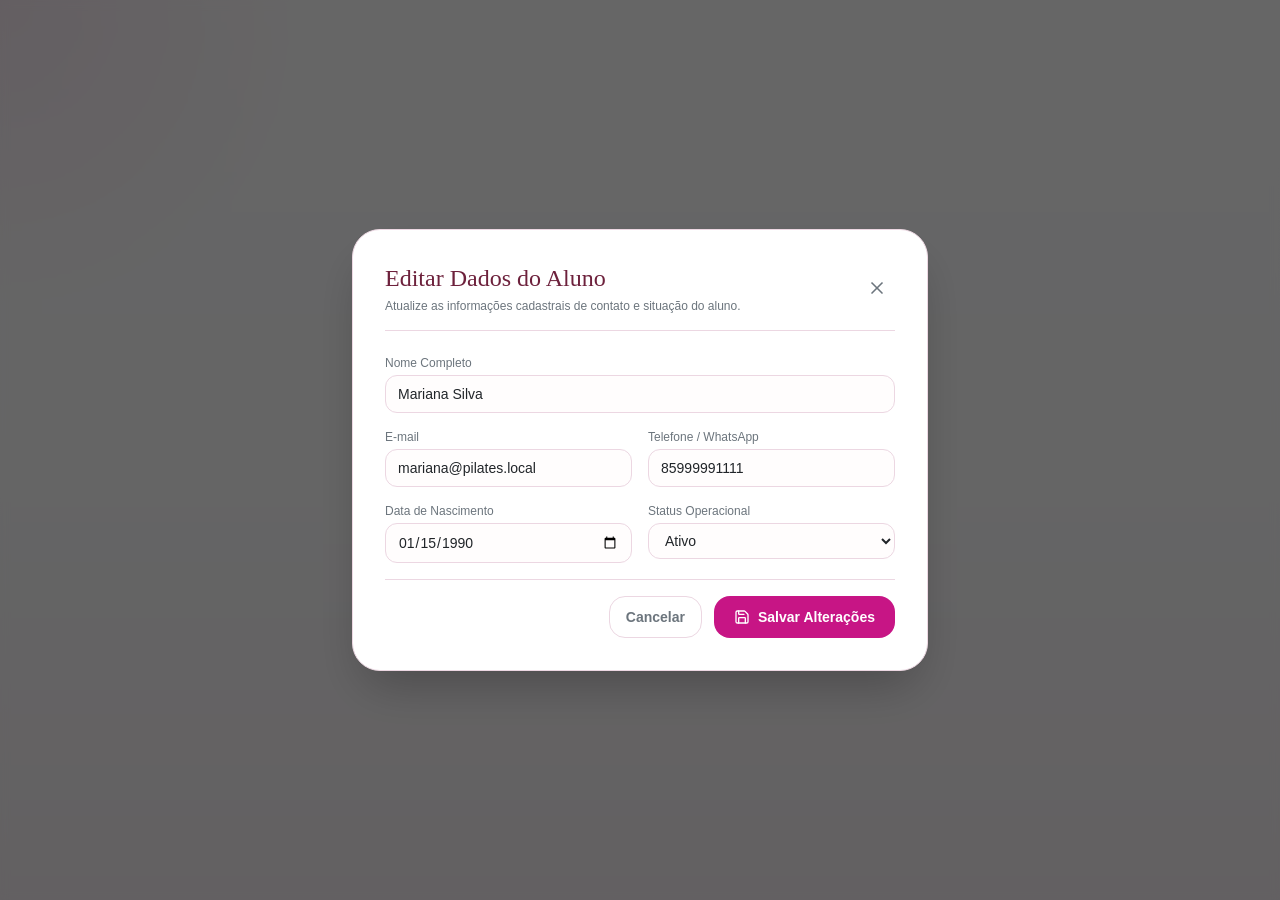
Test: EditStudentModal component › atualiza os dados cadastrais com sucesso
This screenshot has width=1280, height=900.
Replace the text in the field showing "Mariana Silva" with "Mariana Santos" at x=640, y=394, box [385, 375, 895, 413]
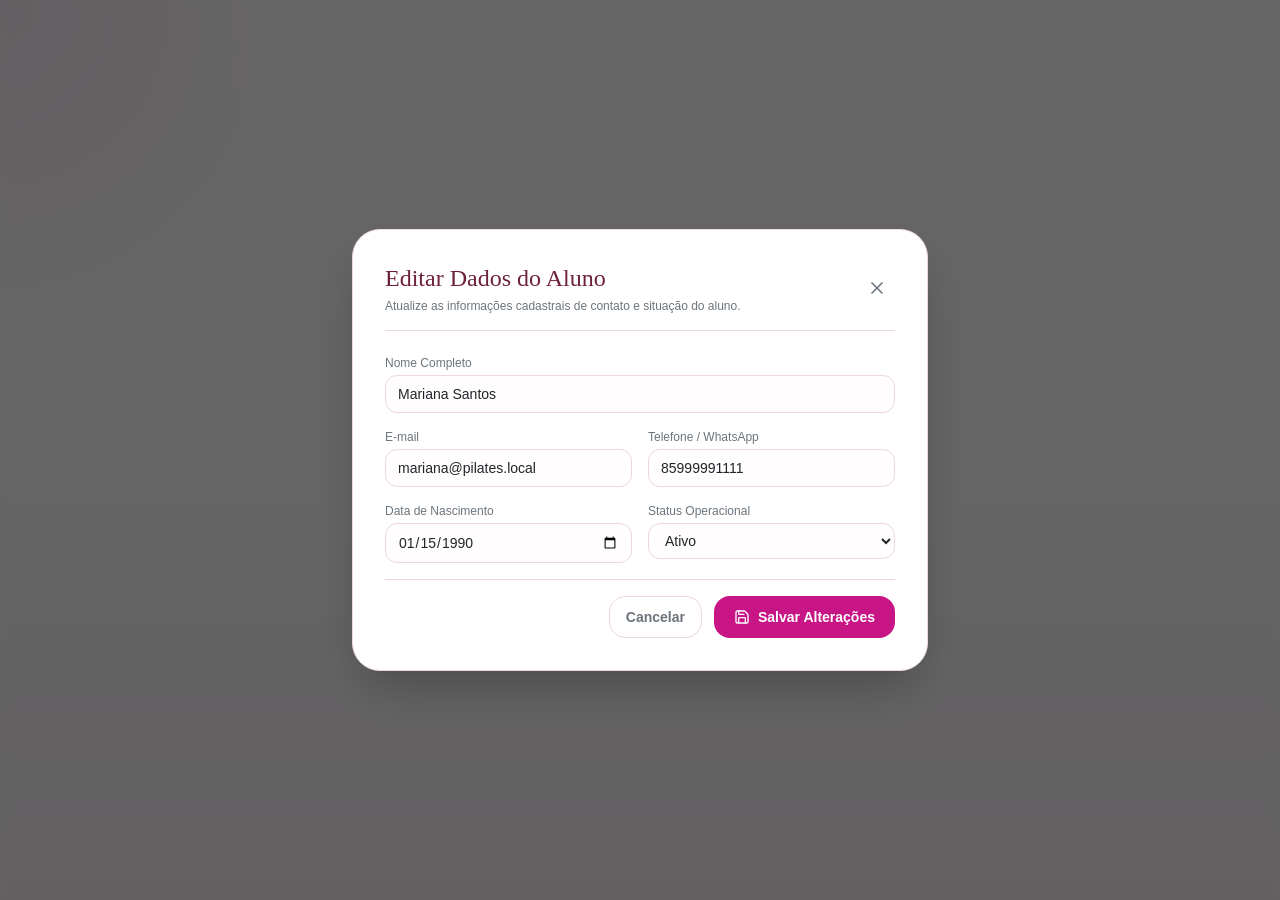
Click the button "Salvar Alterações" at x=804, y=617, box [714, 596, 895, 638]
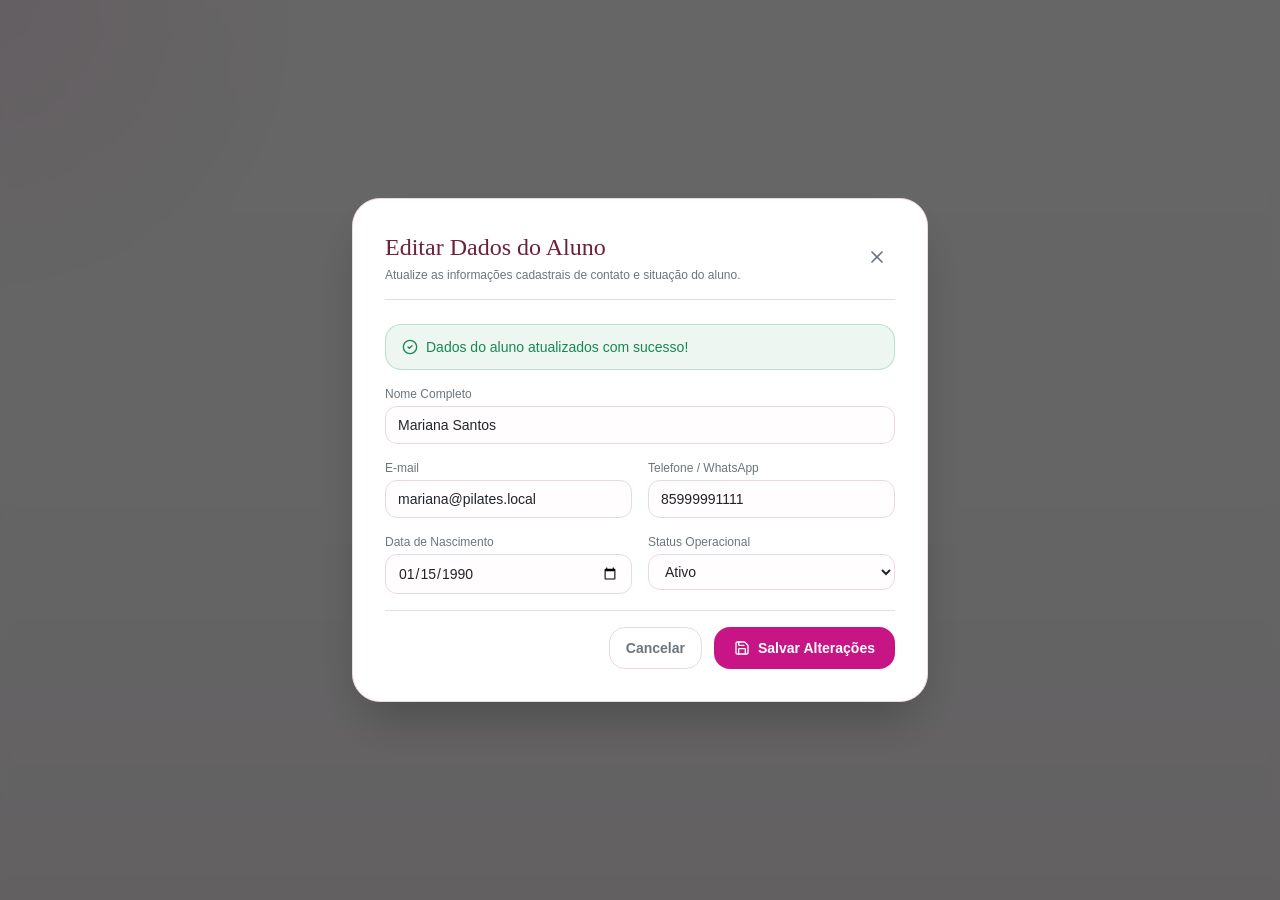
Check: the message reads "Dados do aluno atualizados com sucesso!", box [426, 339, 688, 355]
